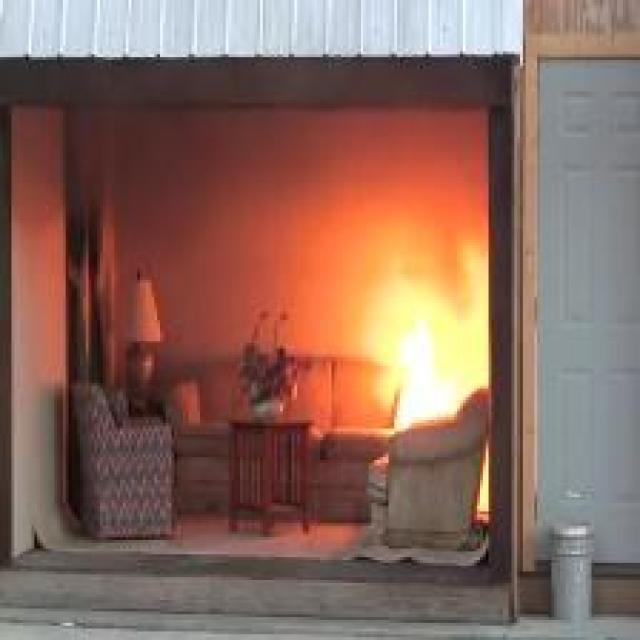fire: (381, 269, 496, 438)
